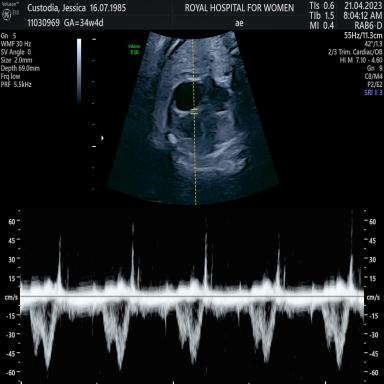Ultrasound-Waves: (27, 212, 362, 384)
